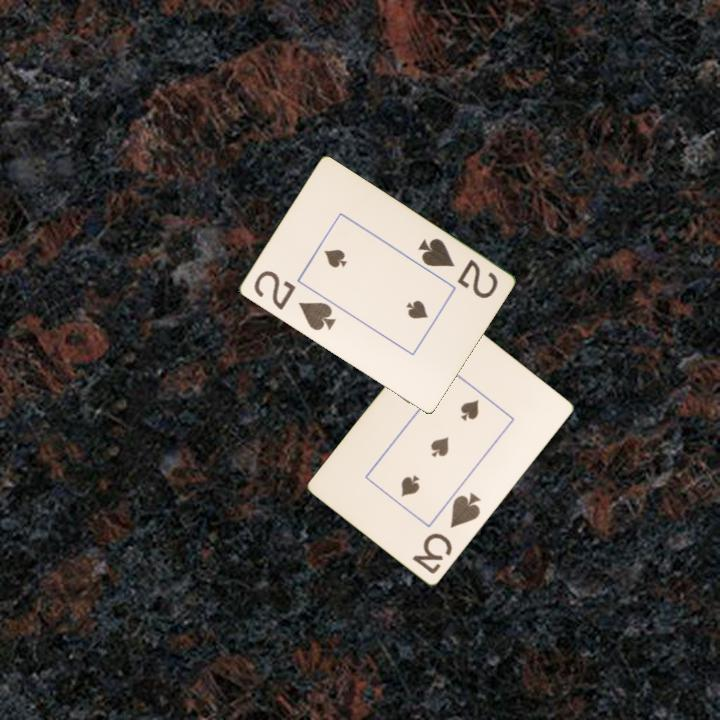2s: (413, 234, 501, 302), (250, 267, 339, 334)
3s: (409, 489, 484, 577)
